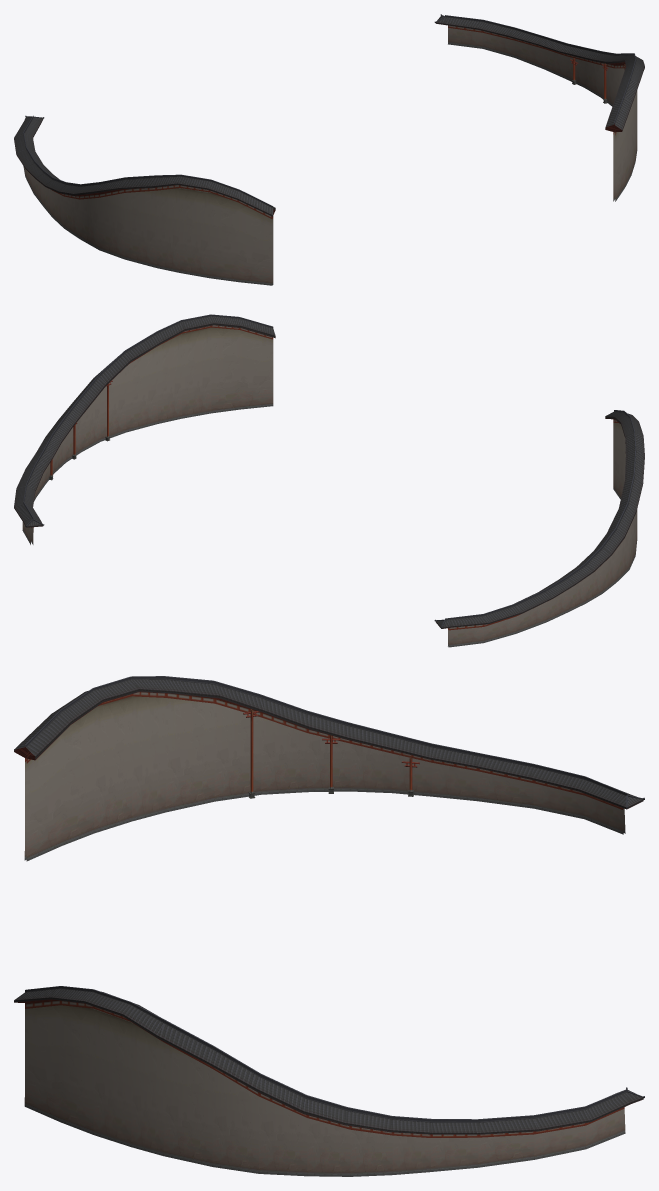
Rendered from ZYbui_CLF_weiqiang01.FBX.
The picture shows the model from 3 angles, top to bottom: view 1: azimuth 30°, elevation 25°; view 2: azimuth 150°, elevation 25°; view 3: azimuth 270°, elevation 25°; orthographic projection. The views are drawn at different scales.
Visible parts, largest first — view 1: ZYbui_CLF_weiqiang01; view 2: ZYbui_CLF_weiqiang01; view 3: ZYbui_CLF_weiqiang01.
Boxes of the visible parts, left/top/right/bottom form: ZYbui_CLF_weiqiang01: left=14, top=14, right=644, bottom=285; ZYbui_CLF_weiqiang01: left=14, top=314, right=644, bottom=647; ZYbui_CLF_weiqiang01: left=14, top=676, right=644, bottom=1176.
Bounding box in the file's own units: 10002 × 1701 × 6720.
